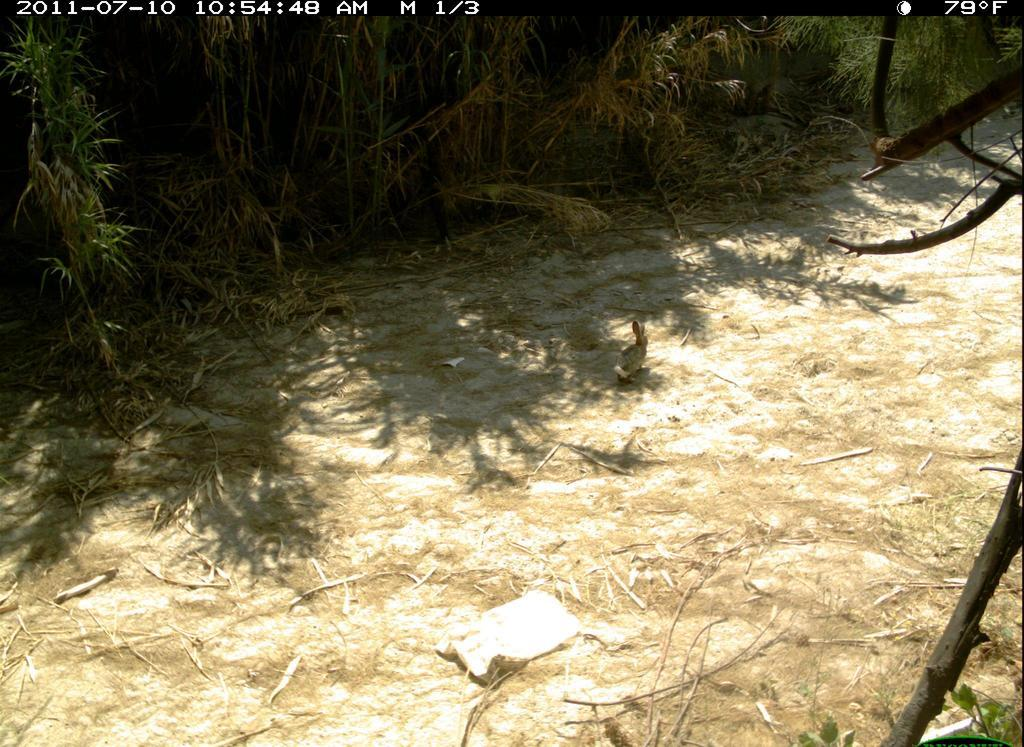rabbit: (606, 314, 669, 413)
